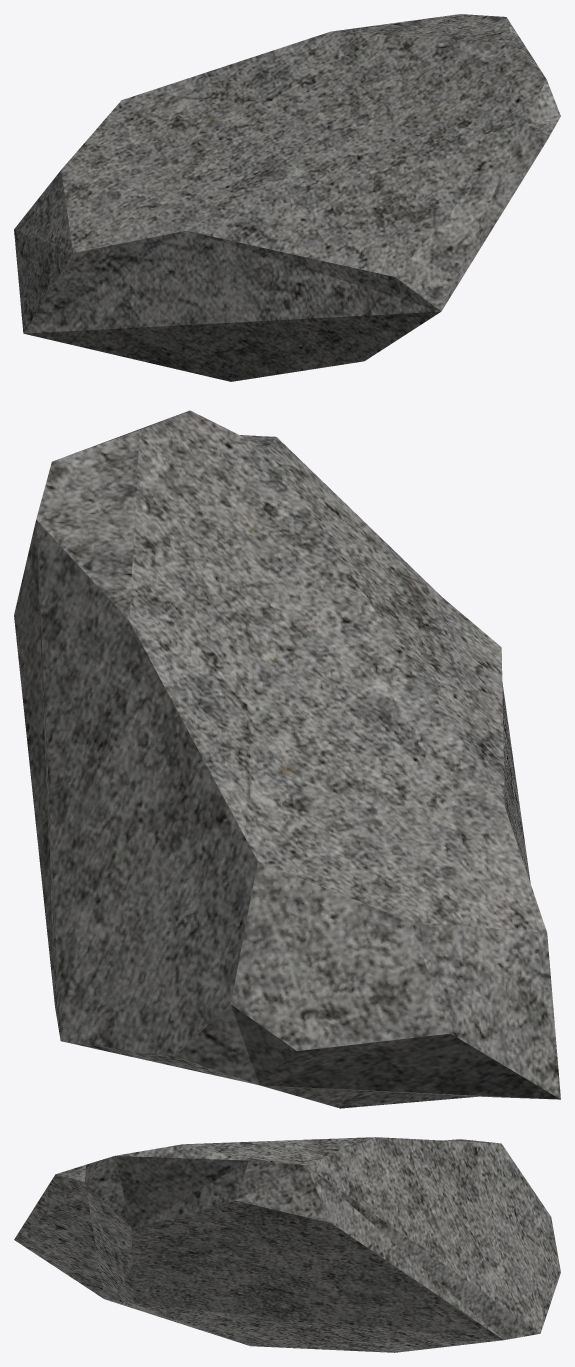
Rendered from roccia_piccola_1.fbx.
3 renders of one model, top to bottom at view 1: azimuth 30°, elevation 25°; view 2: azimuth 150°, elevation 25°; view 3: azimuth 270°, elevation 25°, orthographic. The views are drawn at different scales.
Parts seen in each view (by area): view 1: roccia_piccola_1; view 2: roccia_piccola_1; view 3: roccia_piccola_1.
Part boxes in pixels (box(x1,y1,x2,y2)): roccia_piccola_1: box(14, 14, 560, 381); roccia_piccola_1: box(14, 410, 560, 1108); roccia_piccola_1: box(14, 1137, 560, 1352).
Size of the model in its own units: 18.93 by 13.27 by 21.39.
